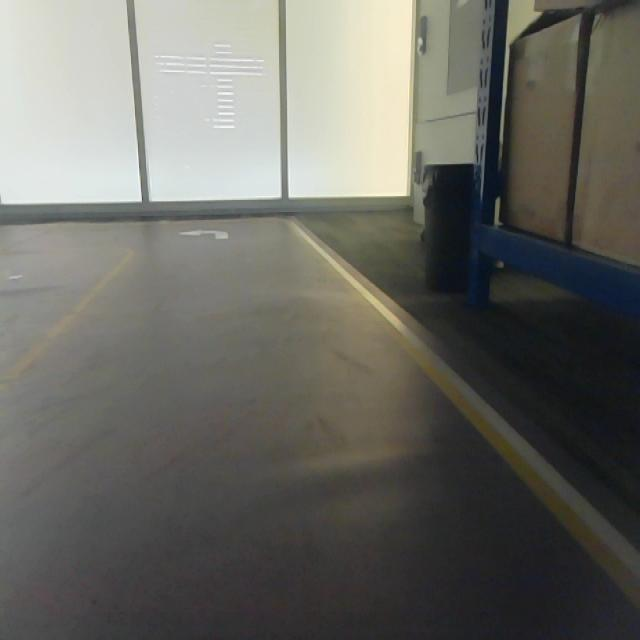left_lane: (0, 251, 136, 391)
right_lane: (291, 222, 640, 613)
